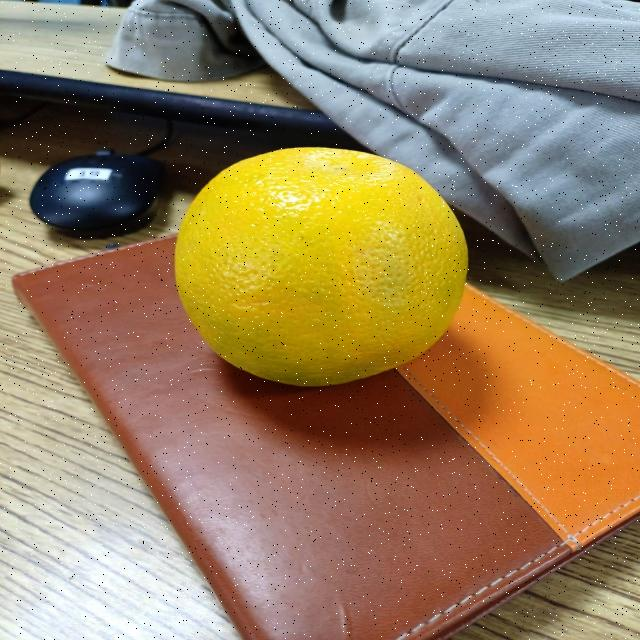Jeruk: (166, 136, 484, 402)
